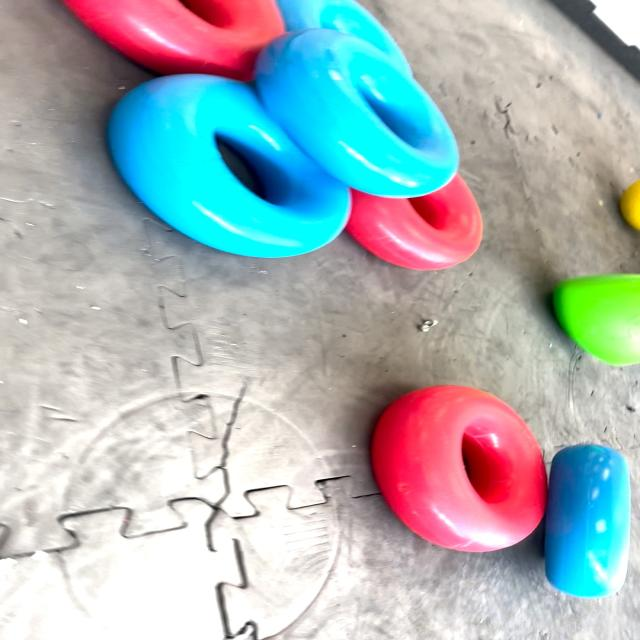Blue-Ring: (107, 74, 349, 258), (256, 29, 458, 198), (544, 445, 629, 598), (276, 0, 411, 74), (127, 22, 129, 24)
Red-Ring: (371, 385, 547, 552), (62, 0, 284, 81), (347, 175, 482, 270)
